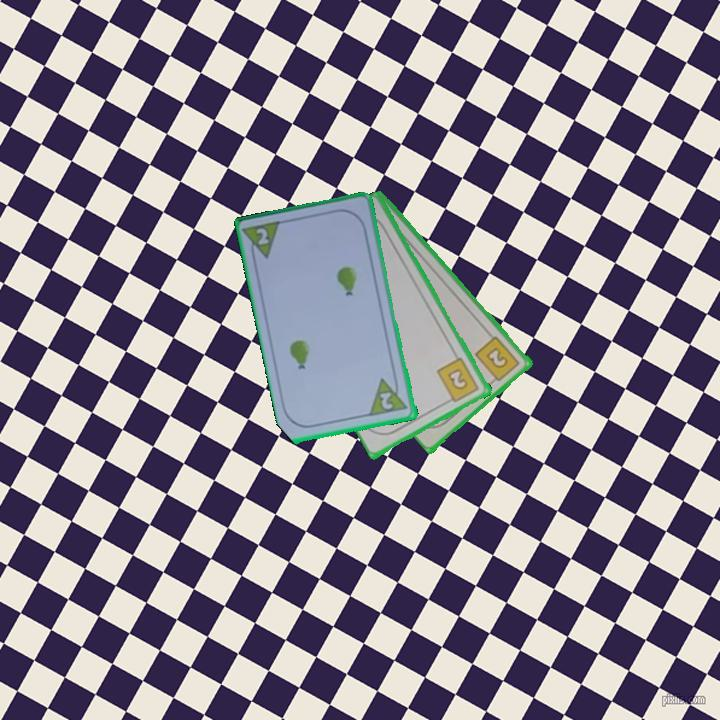2b: (472, 333, 523, 387), (434, 354, 482, 407)
2p: (376, 389, 396, 413), (253, 224, 272, 248)
